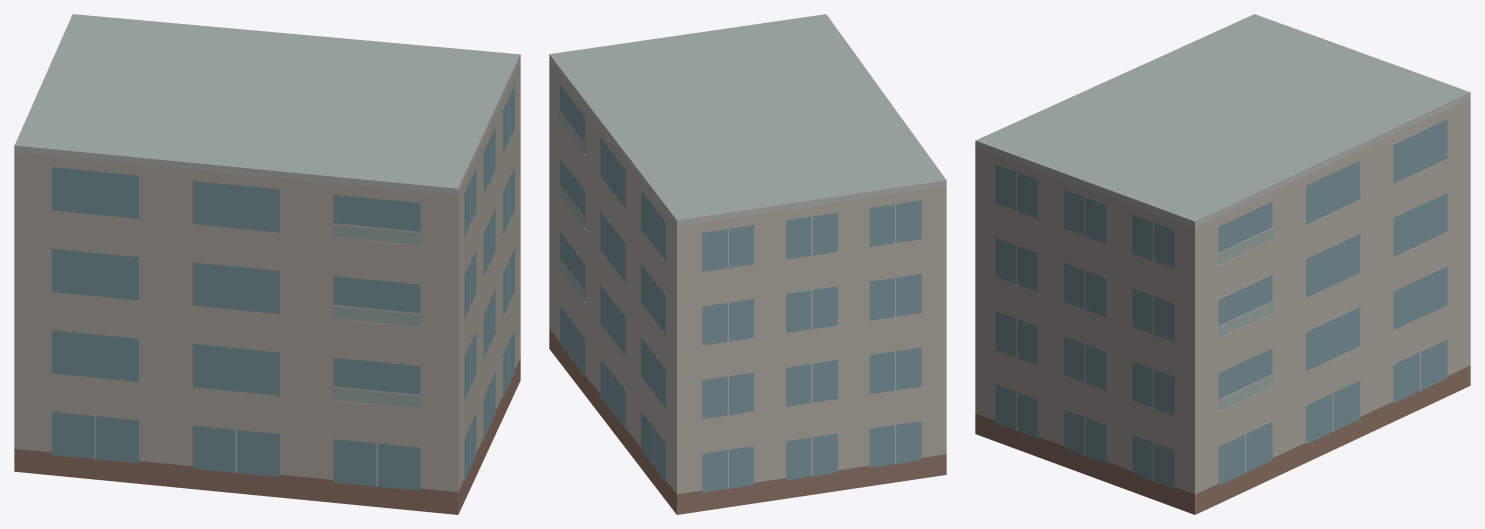
The model's file is survey-upis-32533950.glb.
The picture shows the model from 3 angles, left to right: view 1: azimuth 30°, elevation 25°; view 2: azimuth 150°, elevation 25°; view 3: azimuth 270°, elevation 25°; orthographic projection. The views are drawn at different scales.
Parts seen in each view (by area): view 1: survey-upis-32533950.tmp; view 2: survey-upis-32533950.tmp; view 3: survey-upis-32533950.tmp.
Boxes of the visible parts, x1=… form: survey-upis-32533950.tmp: x1=14, y1=14, x2=520, y2=514; survey-upis-32533950.tmp: x1=549, y1=14, x2=946, y2=514; survey-upis-32533950.tmp: x1=975, y1=14, x2=1470, y2=514.
Size of the model in its own units: 17.61 by 11.6 by 17.77.
